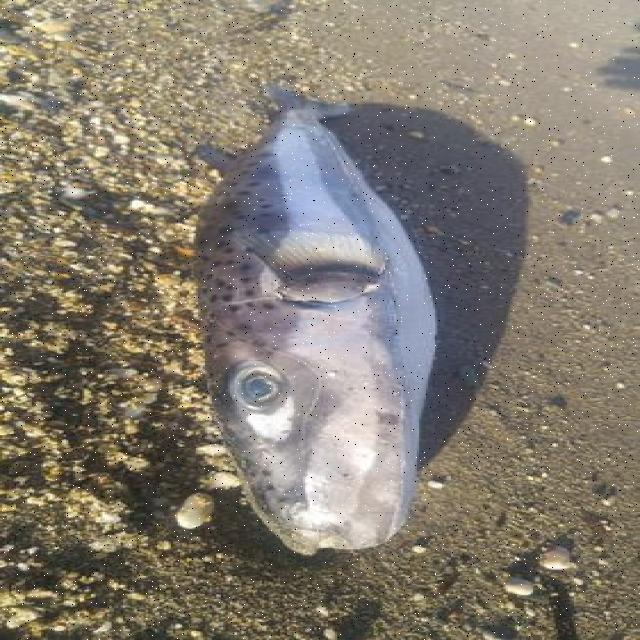Balik: (196, 88, 435, 554)
